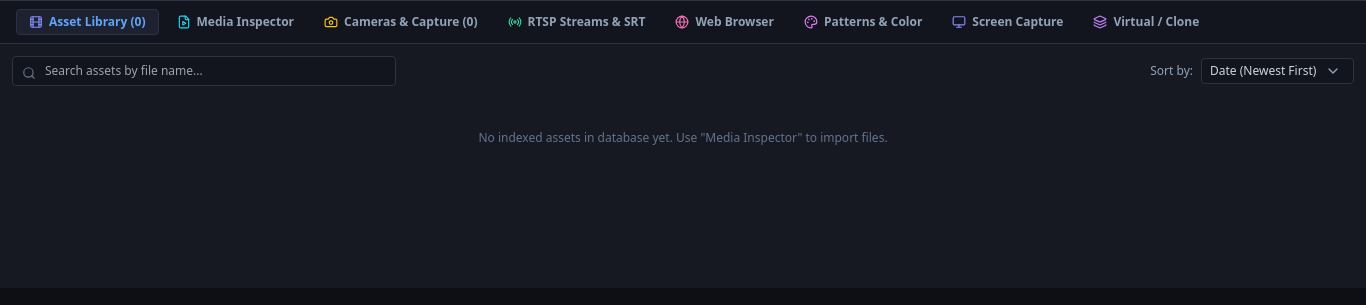
Test: LiveStudio Pro Foundation Fixes Subsystems › renders Screen Capture and Virtual Clone tabs in InputLibrary
Expected: the text "Screen Capture" is shown, [972,14,1063,30]
Expected: the text "Virtual / Clone" is shown, [1113,14,1199,30]
Click Screen Capture tab
Step 1. Click the button "Screen Capture" → (1008, 22), box [940,10,1075,34]
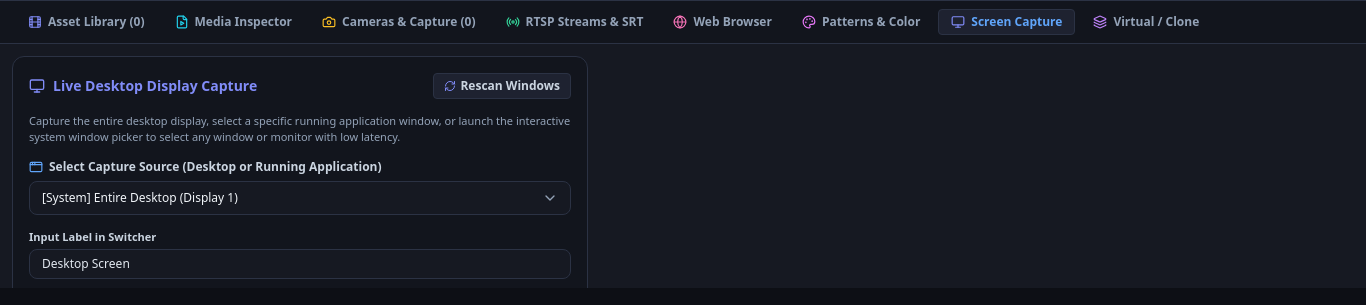
Now the text "Live Desktop Display Capture" is shown, box [53,76,257,96]
Click Virtual / Clone tab
Step 2. Click the button "Virtual / Clone" → (1146, 22), box [1081,10,1211,34]
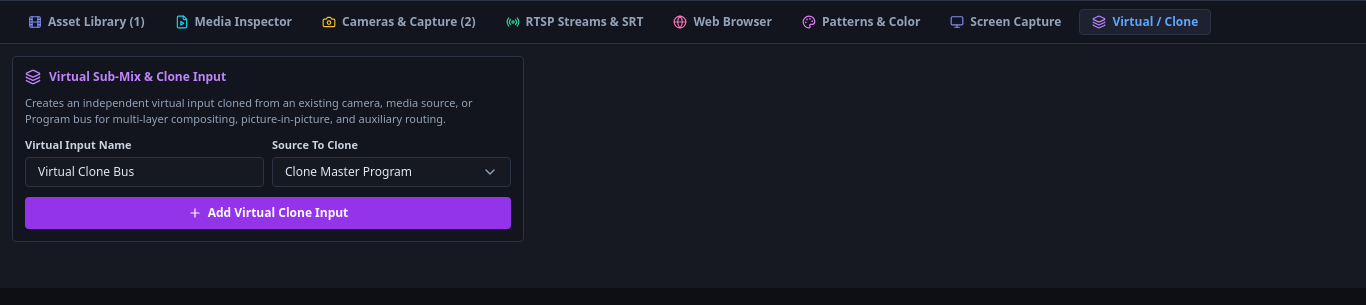
Now the text "Virtual Sub-Mix & Clone Input" is shown, box [49,69,226,85]
Now the button "Add Virtual Clone Input" is shown, box [25,197,511,229]
